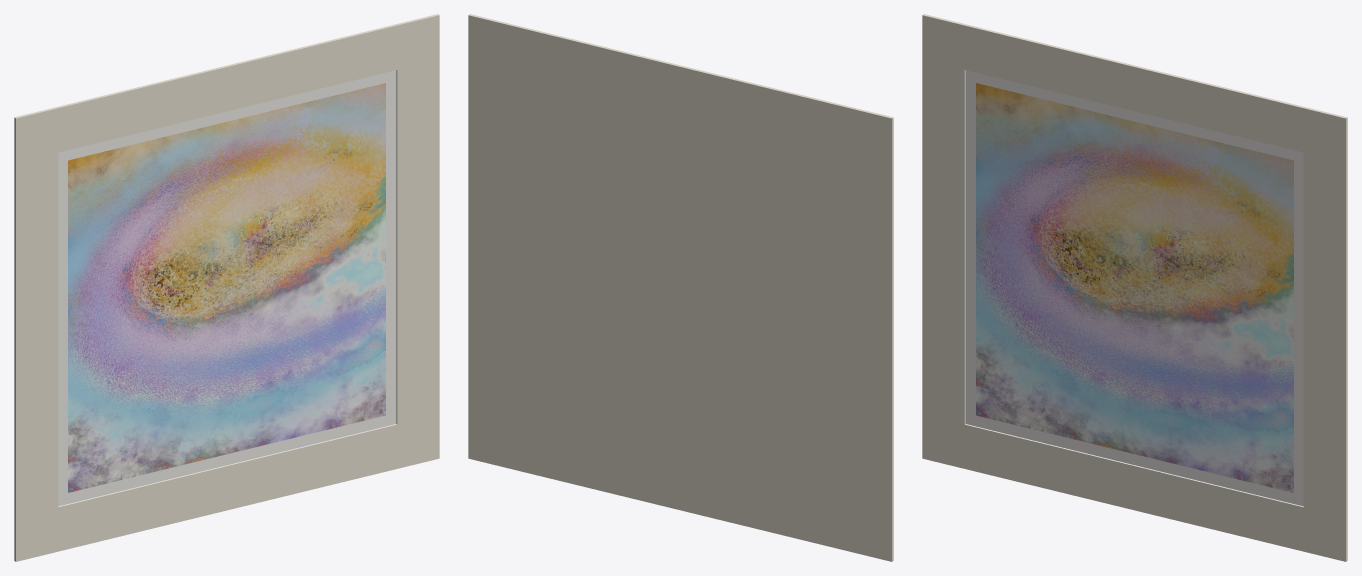
Rendered from va210_moyen_passe-partout.glb.
The picture shows the model from 3 angles, left to right: view 1: azimuth 30°, elevation 25°; view 2: azimuth 150°, elevation 25°; view 3: azimuth 330°, elevation 25°; orthographic projection.
Parts seen in each view (by area): view 1: va210_moyen_passe-partout; view 2: va210_moyen_passe-partout; view 3: va210_moyen_passe-partout.
Boxes of the visible parts, <box> form: va210_moyen_passe-partout: <box>14,14,439,561</box>; va210_moyen_passe-partout: <box>468,14,893,561</box>; va210_moyen_passe-partout: <box>922,14,1347,561</box>.
Size of the model in its own units: 0.8 by 0.8 by 0.0055.
Materials: 4 (1 with a texture image).
